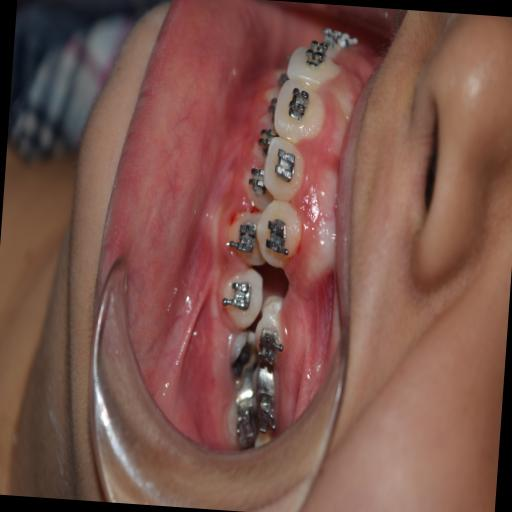correct_brace: (213, 268, 268, 330), (259, 216, 299, 260), (219, 276, 256, 318), (271, 144, 300, 185), (285, 85, 312, 123)
incorrect_brace: (259, 136, 312, 201)
